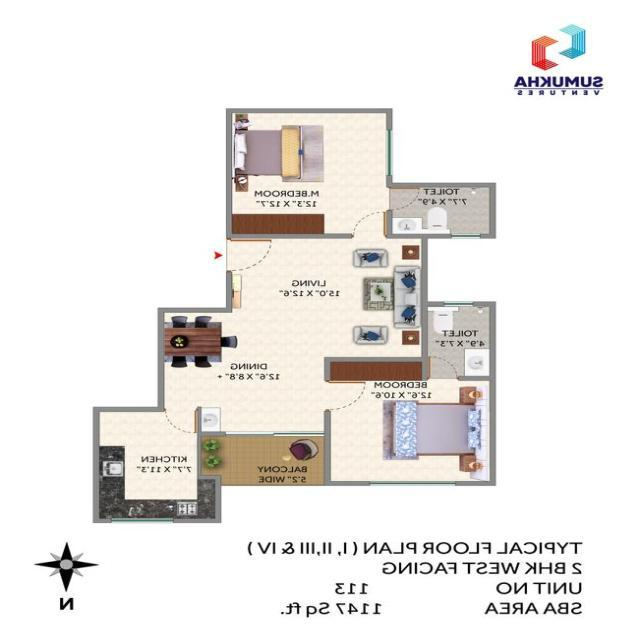Balcony-Sitout: (222, 433, 328, 486)
Bedroom: (324, 376, 497, 486)
Bedroom with Toilet: (226, 107, 393, 240)
Dining: (159, 314, 239, 368)
Enterance-Foyer: (211, 238, 302, 272)
Kitchen: (91, 407, 202, 523)
Living: (320, 235, 426, 359)
Toilet: (422, 300, 496, 382), (384, 184, 497, 237)
